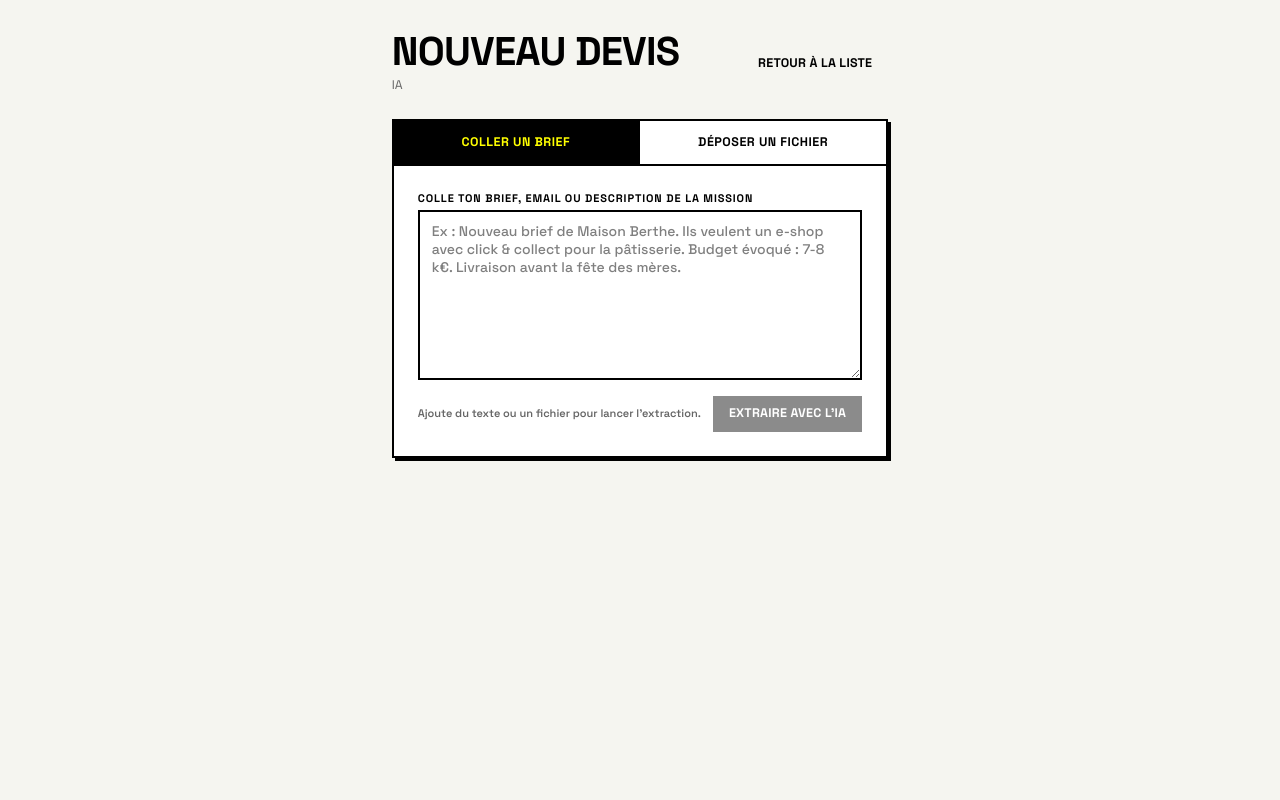
Test: NewAi route › recalcule le total quand on édite la quantité d'une ligne
The width and height of the screenshot is (1280, 800).
Step 1. Replace the text in the text box with test id "ai-brief" with "brief" → (640, 295), box [418,210,862,380]
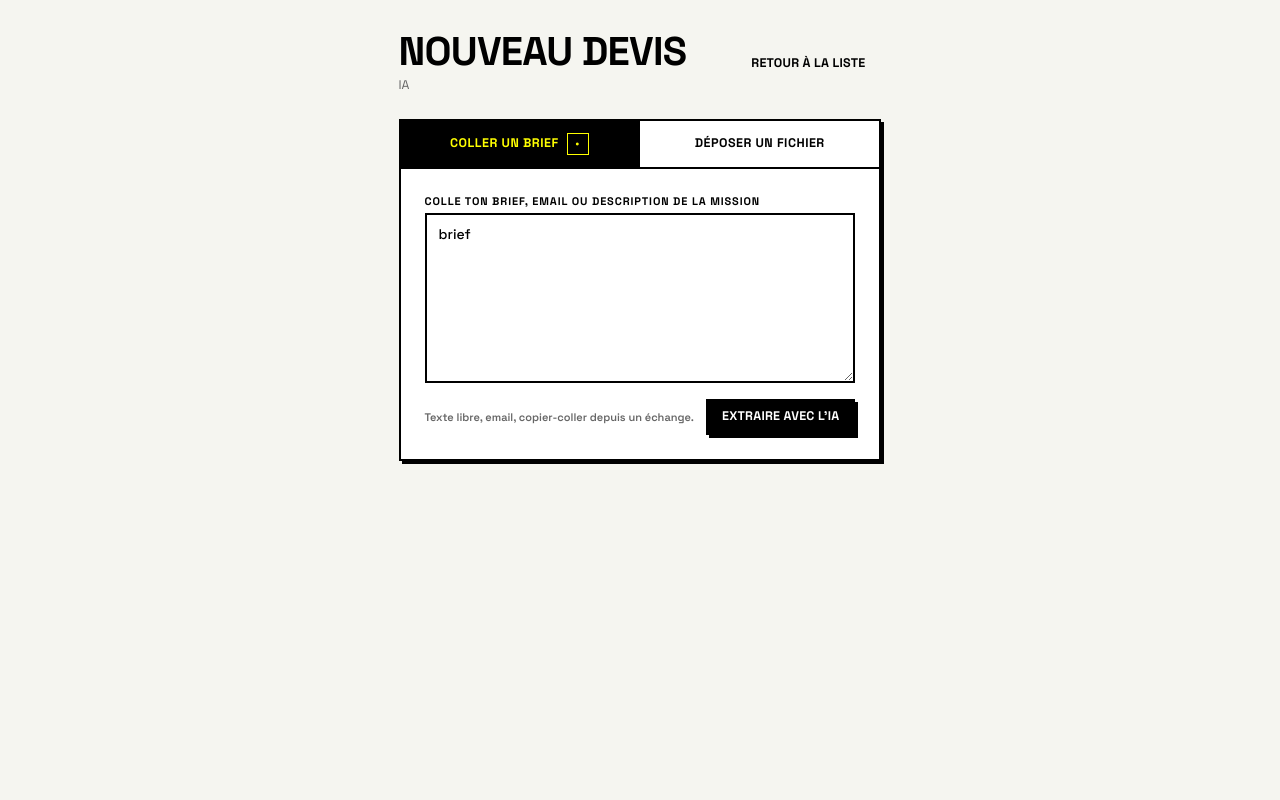
Step 2. Click the button with test id "ai-extract" → (781, 417), box [706,399,855,435]
(page scrolled)
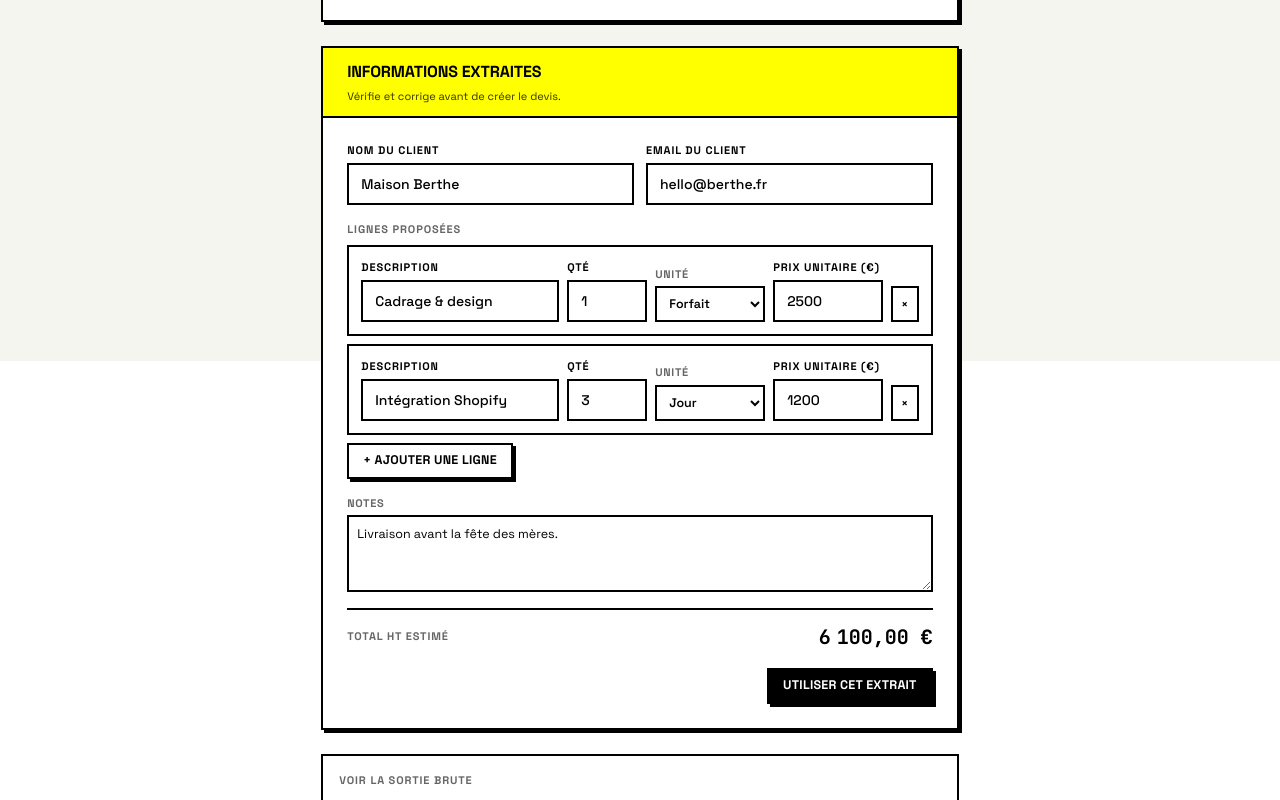
expect the element with test id "ai-extracted" is shown: met, box [321,46,959,730]
Step 3. Replace the text in the number field with test id "ai-edit-item-1-qty" with "5" → (607, 400), box [567,379,647,421]
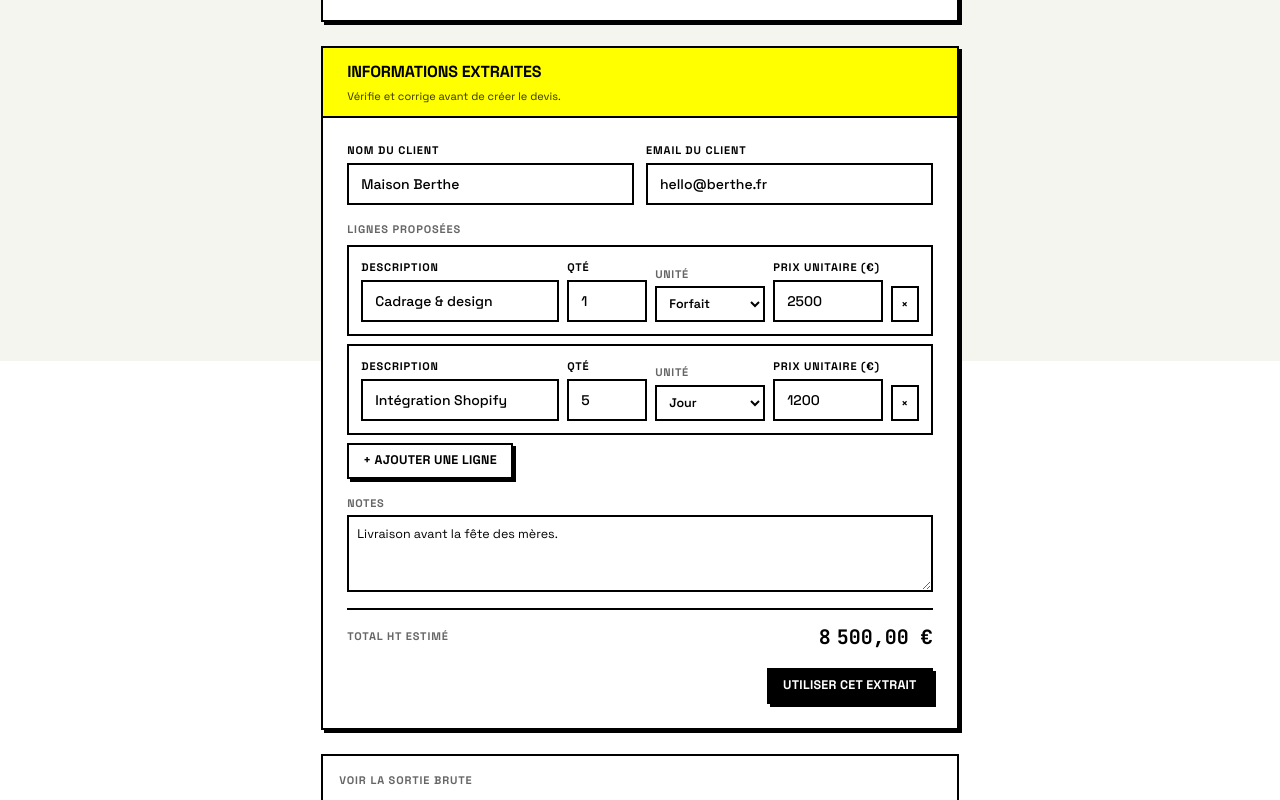
expect the text with test id "ai-extracted-total" reads "8 500,00 €": met, box [819,624,933,650]
